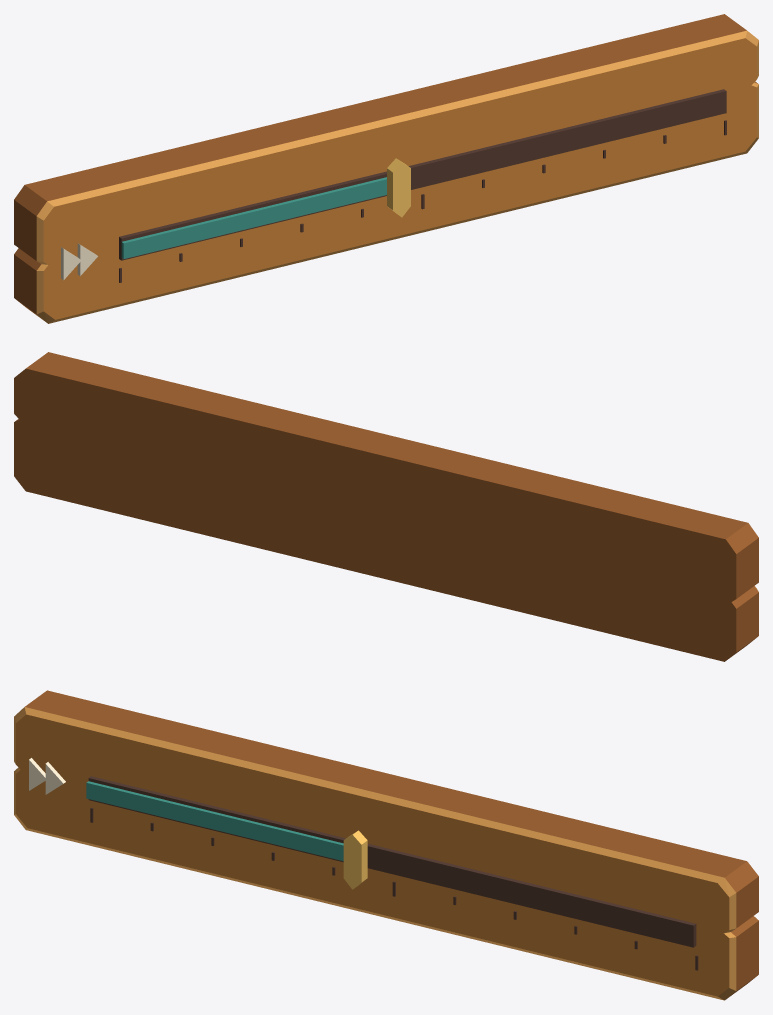
Rendered from Seek_H.fbx.
3 renders of one model, top to bottom at view 1: azimuth 30°, elevation 25°; view 2: azimuth 150°, elevation 25°; view 3: azimuth 330°, elevation 25°, orthographic.
Visible parts, largest first — view 1: Stone, Rail, Fill, Handle; view 2: Stone; view 3: Stone, Rail, Fill, Handle.
Boxes of the visible parts, bbox=[...] form: Stone: bbox=[14, 14, 758, 323]; Rail: bbox=[119, 89, 726, 260]; Fill: bbox=[121, 177, 386, 258]; Handle: bbox=[387, 158, 410, 217]; Stone: bbox=[14, 352, 758, 661]; Stone: bbox=[14, 690, 758, 1000]; Rail: bbox=[88, 776, 696, 947]; Fill: bbox=[86, 781, 343, 861]; Handle: bbox=[343, 830, 367, 889].
Size of the model in its own units: 0.48 by 0.078 by 0.0415.
